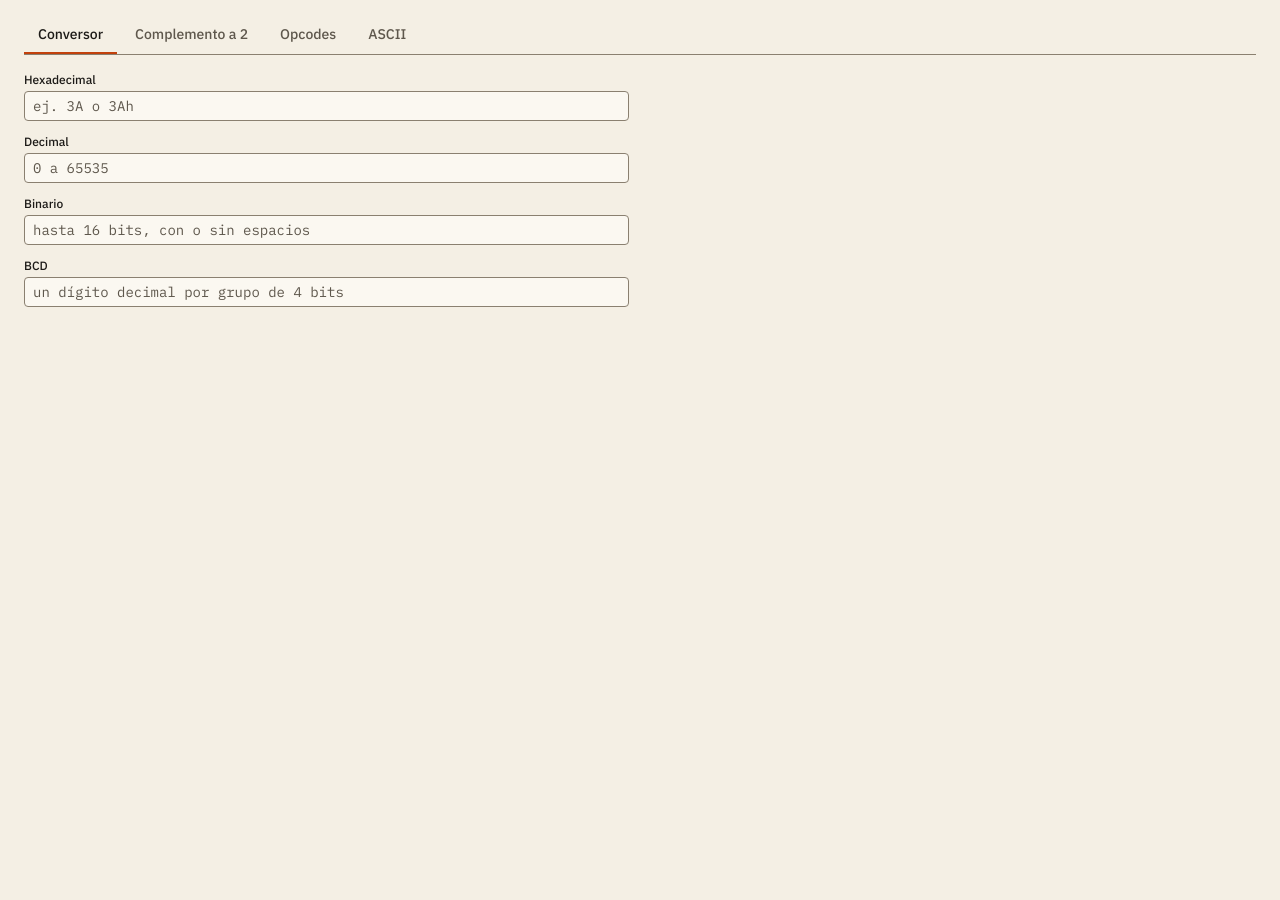
Opcodes › sin resultados lo dice
Click the tab "Opcodes".
click(308, 35)  # box [266, 16, 350, 54]
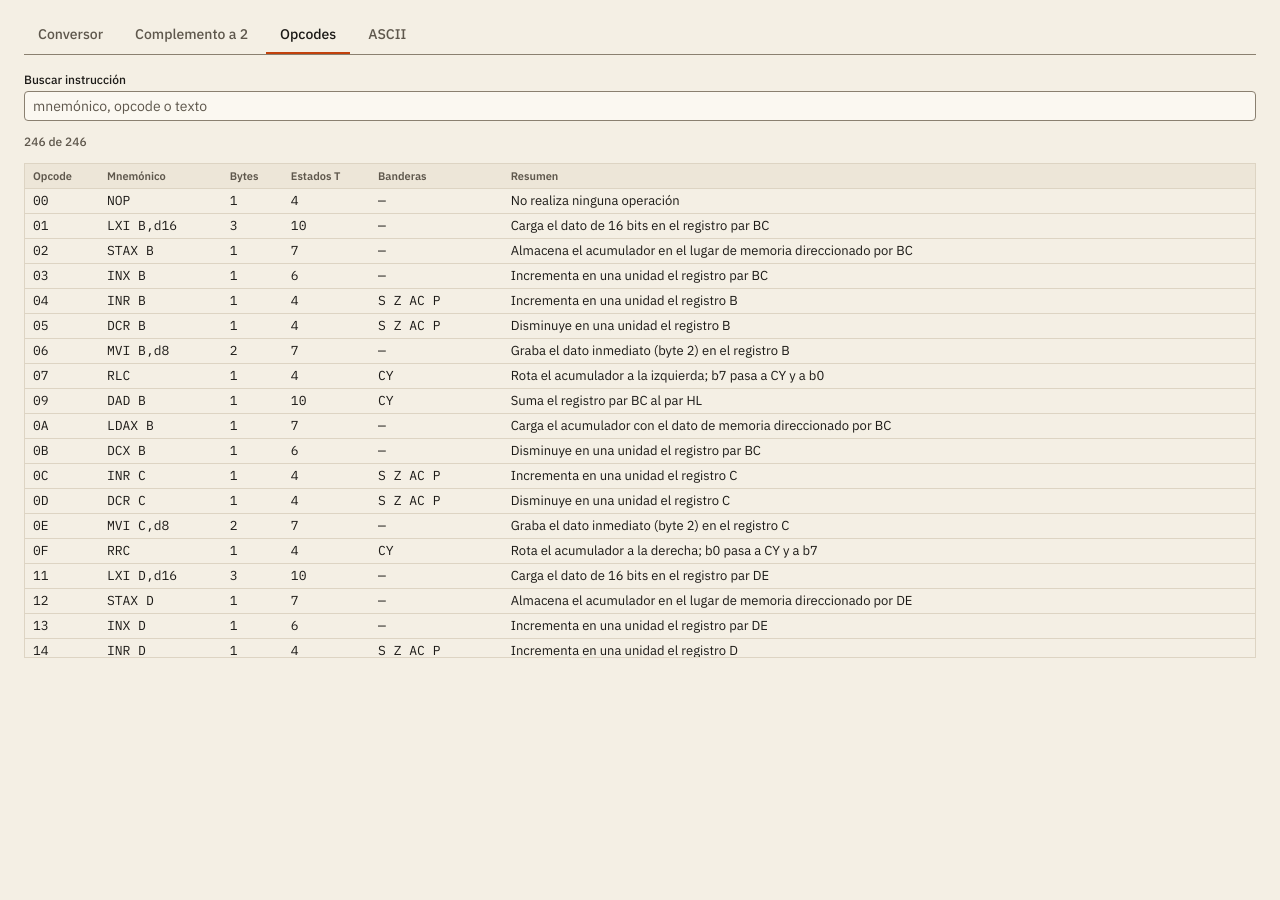
Type "zzzz" into the search field labelled "Buscar instrucción".
click(640, 106); type("zzzz")  # box [24, 91, 1256, 121]
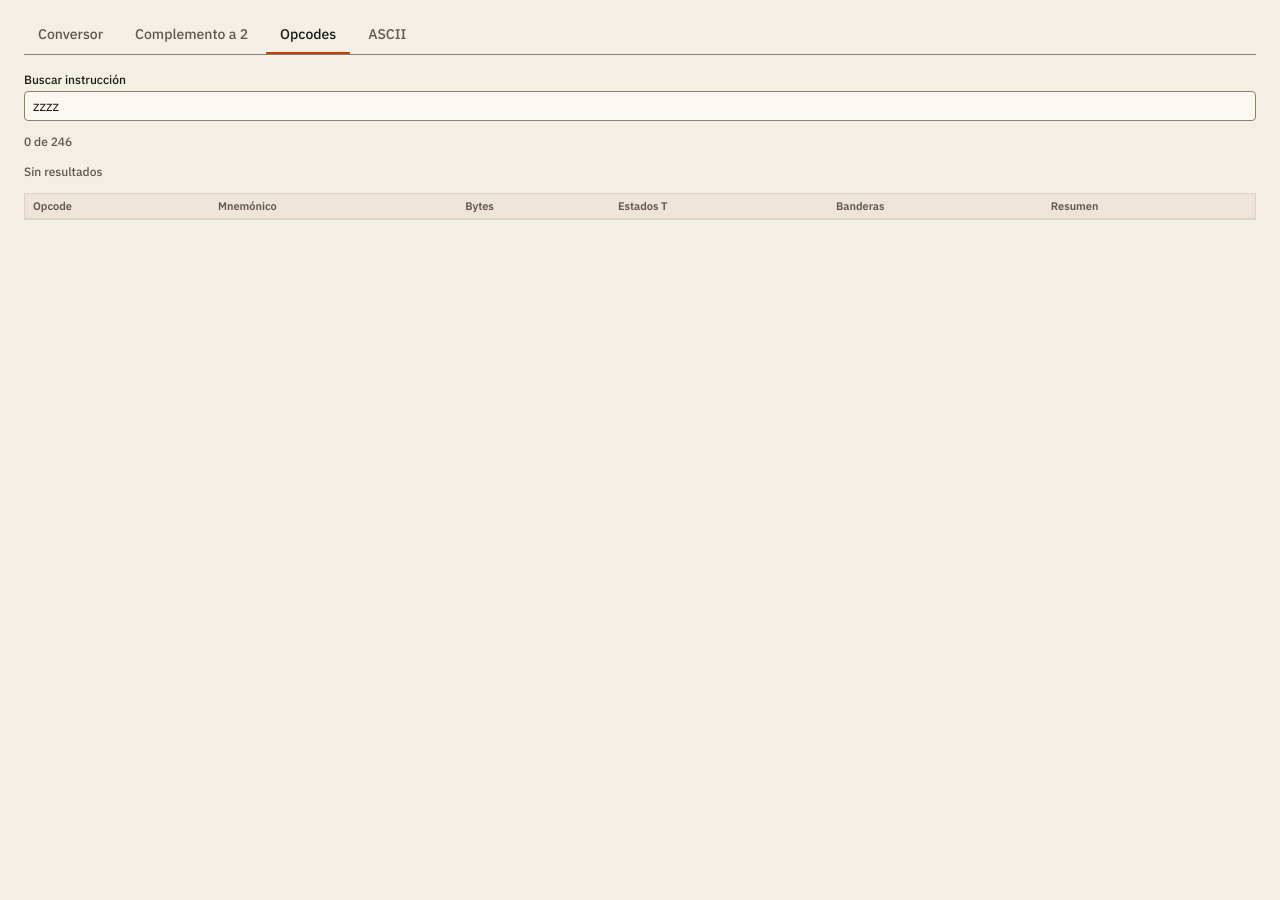
Expected: the text "Sin resultados" is shown, [24, 164, 102, 179]
